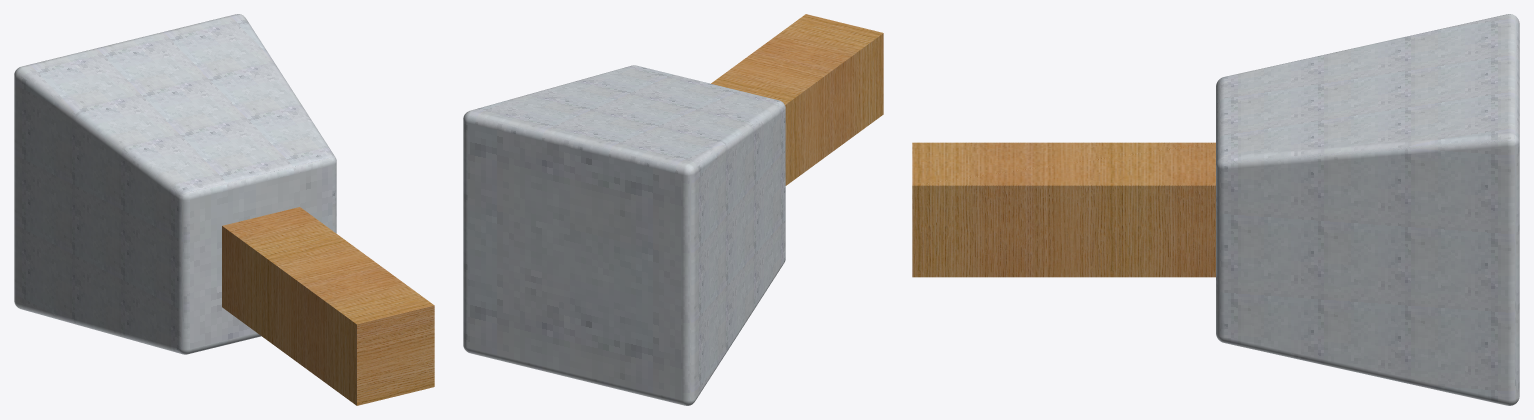
Rendered from concretefoot.obj.
3 views of the same model, side by side, from view 1: azimuth 30°, elevation 25°; view 2: azimuth 150°, elevation 25°; view 3: azimuth 270°, elevation 25° (orthographic). The views are drawn at different scales.
Visible parts, largest first — view 1: Root|concretefoot_(Default)|Default|old_english_brick_2d-2, Root|concretefoot_(Default)|Default|unfinished_oak_2d, Root|concretefoot_(Default)|Default|old_english_brick_2d; view 2: Root|concretefoot_(Default)|Default|old_english_brick_2d, Root|concretefoot_(Default)|Default|old_english_brick_2d-2, Root|concretefoot_(Default)|Default|unfinished_oak_2d; view 3: Root|concretefoot_(Default)|Default|old_english_brick_2d-2, Root|concretefoot_(Default)|Default|unfinished_oak_2d.
Boxes of the visible parts, <box> form: Root|concretefoot_(Default)|Default|old_english_brick_2d-2: <box>14,14,336,354</box>; Root|concretefoot_(Default)|Default|unfinished_oak_2d: <box>222,207,434,405</box>; Root|concretefoot_(Default)|Default|old_english_brick_2d: <box>190,165,332,348</box>; Root|concretefoot_(Default)|Default|old_english_brick_2d: <box>467,123,682,400</box>; Root|concretefoot_(Default)|Default|old_english_brick_2d-2: <box>463,65,785,405</box>; Root|concretefoot_(Default)|Default|unfinished_oak_2d: <box>711,14,883,185</box>; Root|concretefoot_(Default)|Default|old_english_brick_2d-2: <box>1216,14,1519,405</box>; Root|concretefoot_(Default)|Default|unfinished_oak_2d: <box>912,142,1215,277</box>.
Bounding box in the file's own units: 0.1482 × 0.1482 × 0.3.
